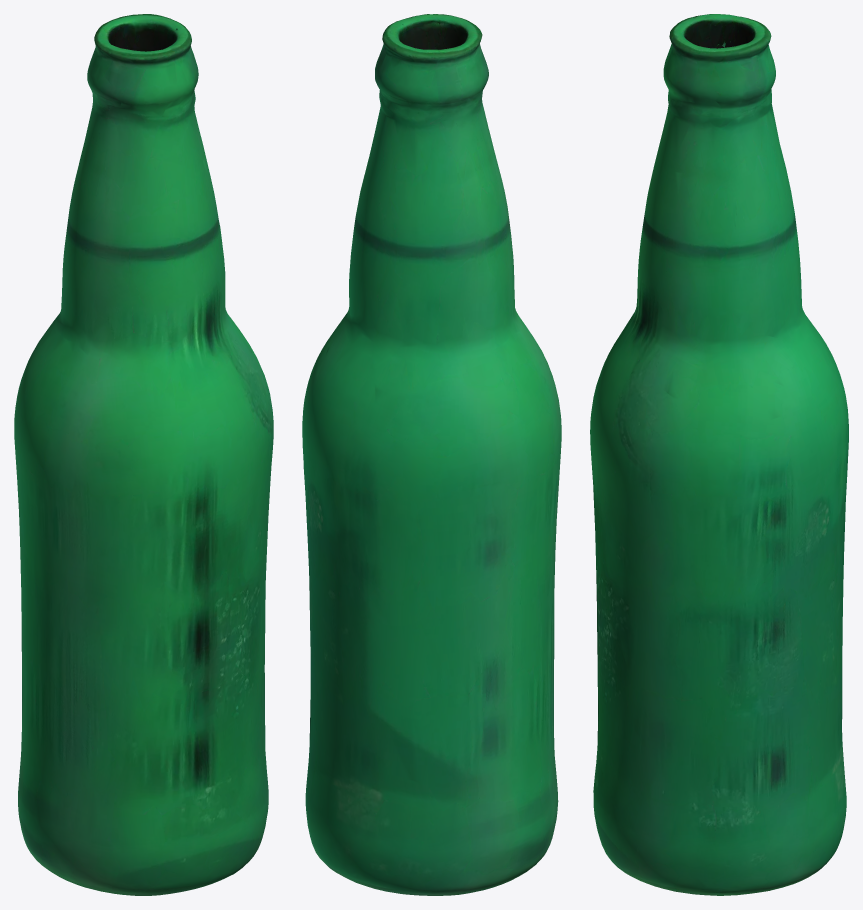
Rendered from BotolKaca.glb.
3 views of the same model, side by side, from view 1: azimuth 30°, elevation 25°; view 2: azimuth 150°, elevation 25°; view 3: azimuth 270°, elevation 25° (orthographic).
Size of the model in its own units: 0.5727 by 2 by 0.5696.
Materials: 1 (1 with a texture image).
